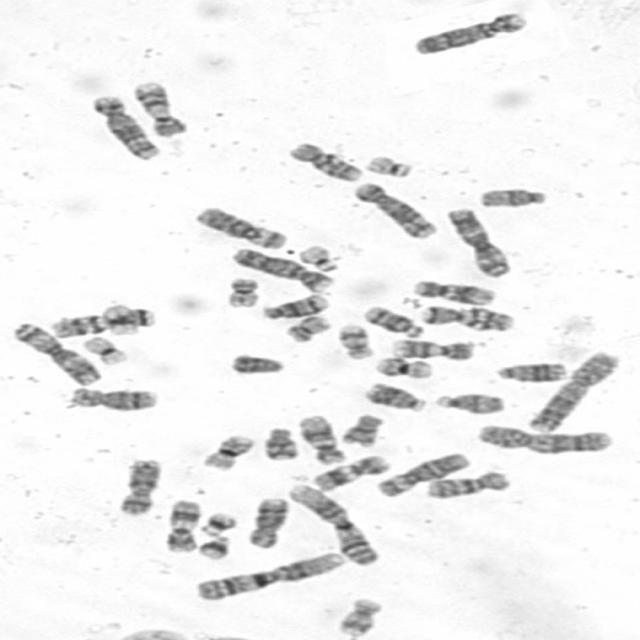A1: (190, 548, 346, 602), (284, 481, 379, 567)
A2: (523, 349, 622, 434), (470, 421, 616, 454)
A3: (8, 319, 104, 386), (441, 204, 513, 278)
B4: (408, 9, 529, 56), (228, 244, 336, 292)
B5: (349, 180, 438, 240), (88, 92, 161, 160)
C10: (284, 140, 365, 182), (422, 468, 512, 500)
C11: (310, 452, 390, 492), (160, 497, 202, 553)
C12: (294, 412, 348, 466), (409, 278, 498, 306)
C6: (372, 450, 472, 499), (190, 204, 289, 250)
C7: (46, 304, 158, 338), (415, 302, 516, 332)
C8: (243, 495, 290, 549), (65, 385, 160, 411)
C9: (129, 78, 188, 137), (387, 336, 477, 360)
D13: (361, 379, 428, 413), (490, 359, 568, 383)
D14: (359, 303, 425, 338), (256, 291, 332, 321)
D15: (430, 390, 506, 416), (475, 185, 548, 209)
E16: (196, 432, 256, 472), (371, 354, 435, 379)
E17: (333, 595, 386, 637), (334, 322, 376, 360)
E18: (336, 411, 386, 447), (259, 425, 300, 461)
F19: (79, 333, 130, 366), (97, 301, 141, 336)
F20: (281, 313, 333, 343), (218, 276, 262, 309)
G21: (196, 510, 238, 538), (196, 532, 233, 562)
G22: (362, 152, 416, 178), (296, 242, 342, 272)
X: (112, 455, 163, 516)
Y: (225, 351, 286, 376)
